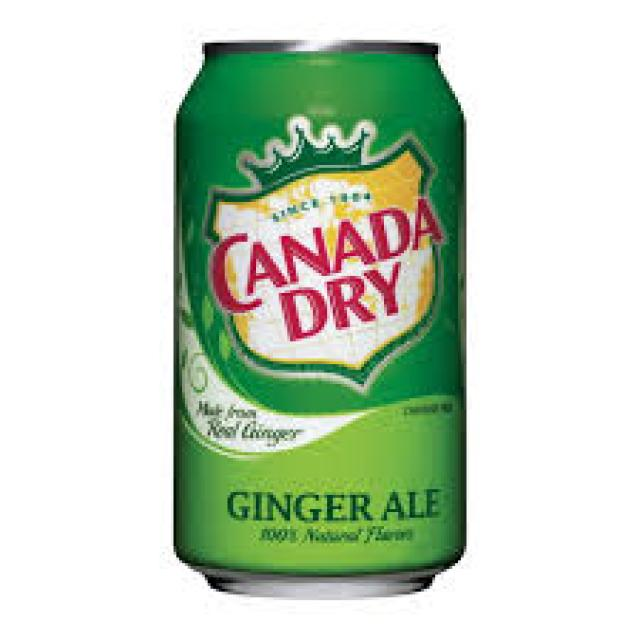Cans: (165, 31, 481, 600)
